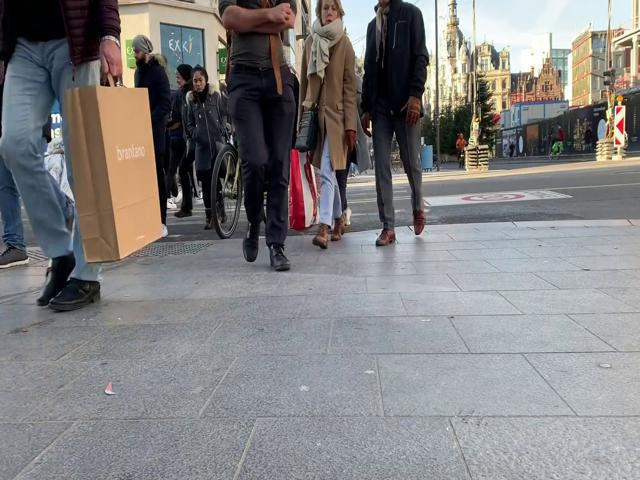shoe: (49, 278, 100, 310), (242, 220, 259, 262), (1, 245, 29, 268), (269, 245, 290, 272), (312, 224, 327, 249), (331, 216, 345, 240), (413, 208, 425, 235), (376, 229, 395, 246)
